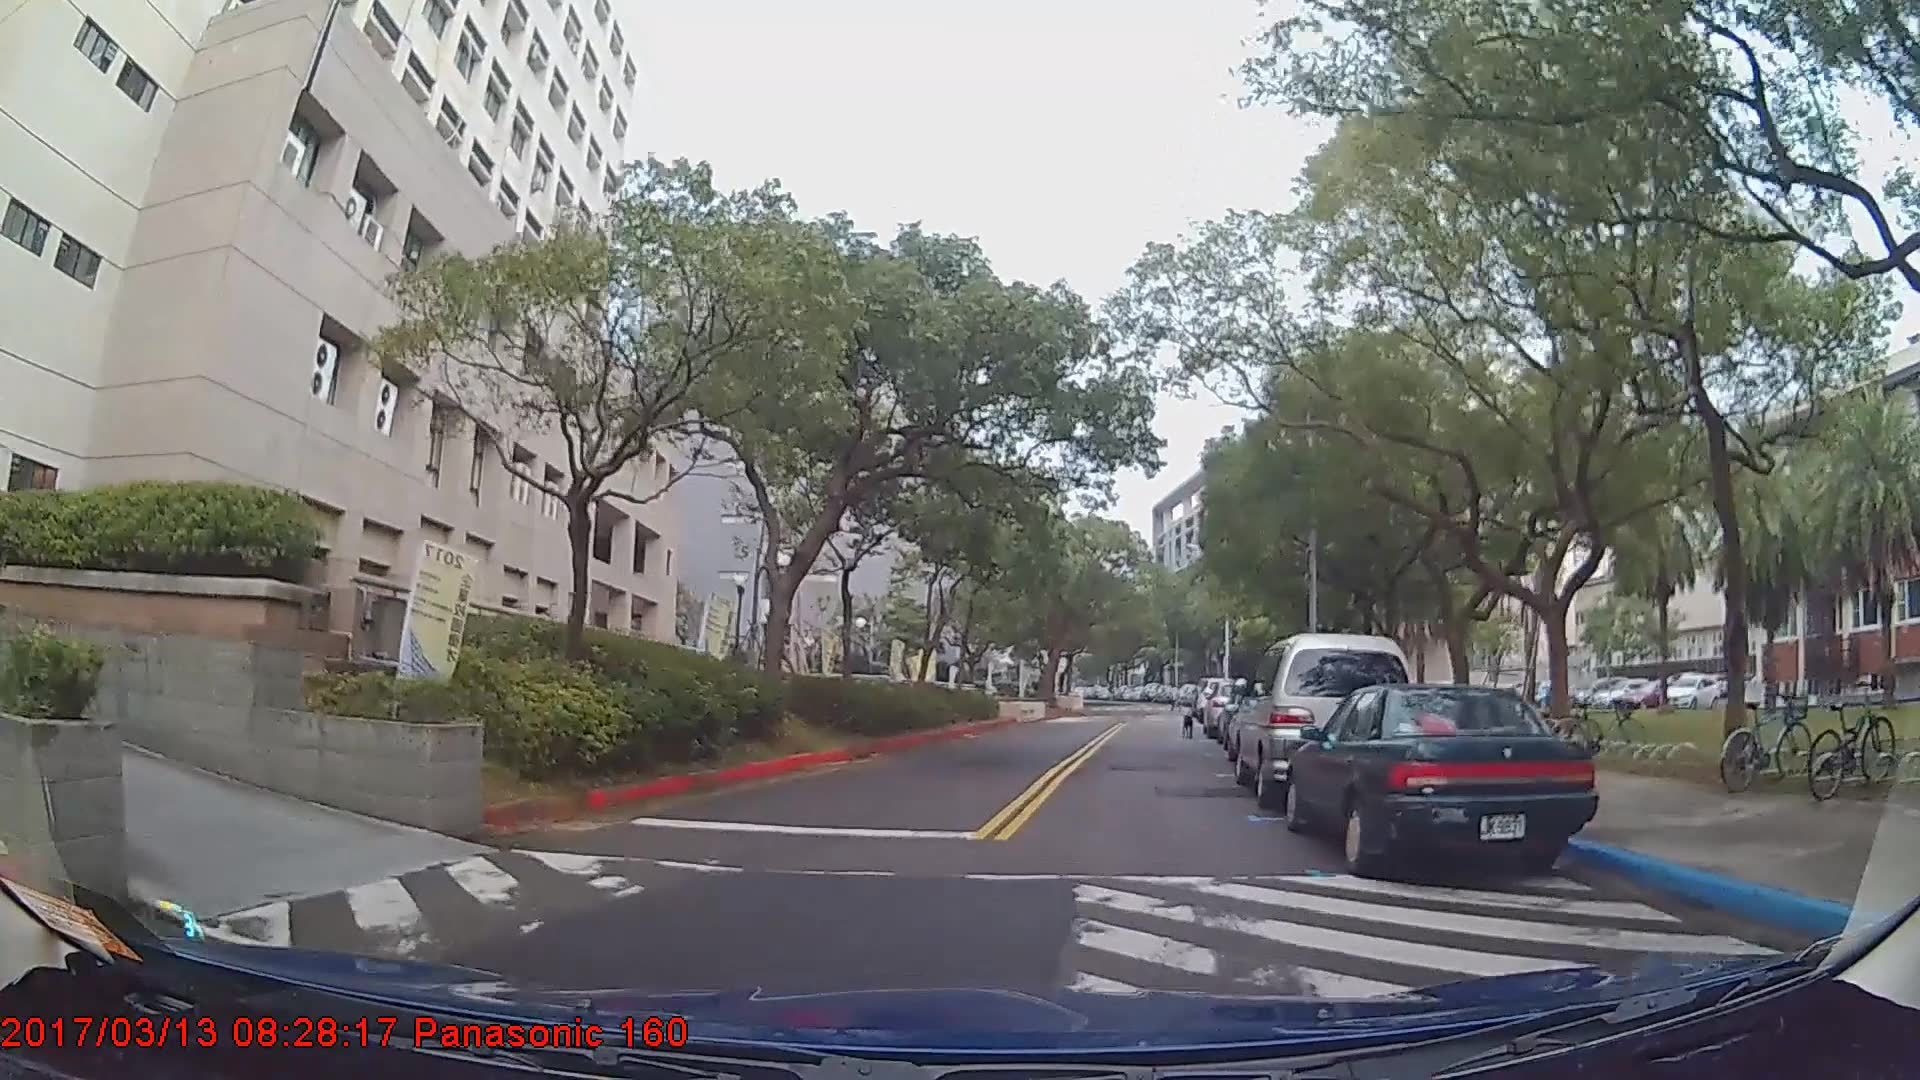vehicle: (1280, 680, 1597, 876), (1233, 629, 1414, 804)
